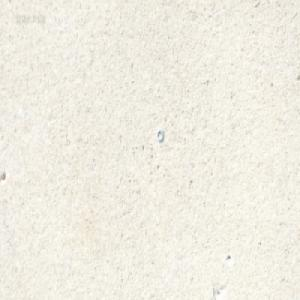Washer: (156, 127, 163, 141)
